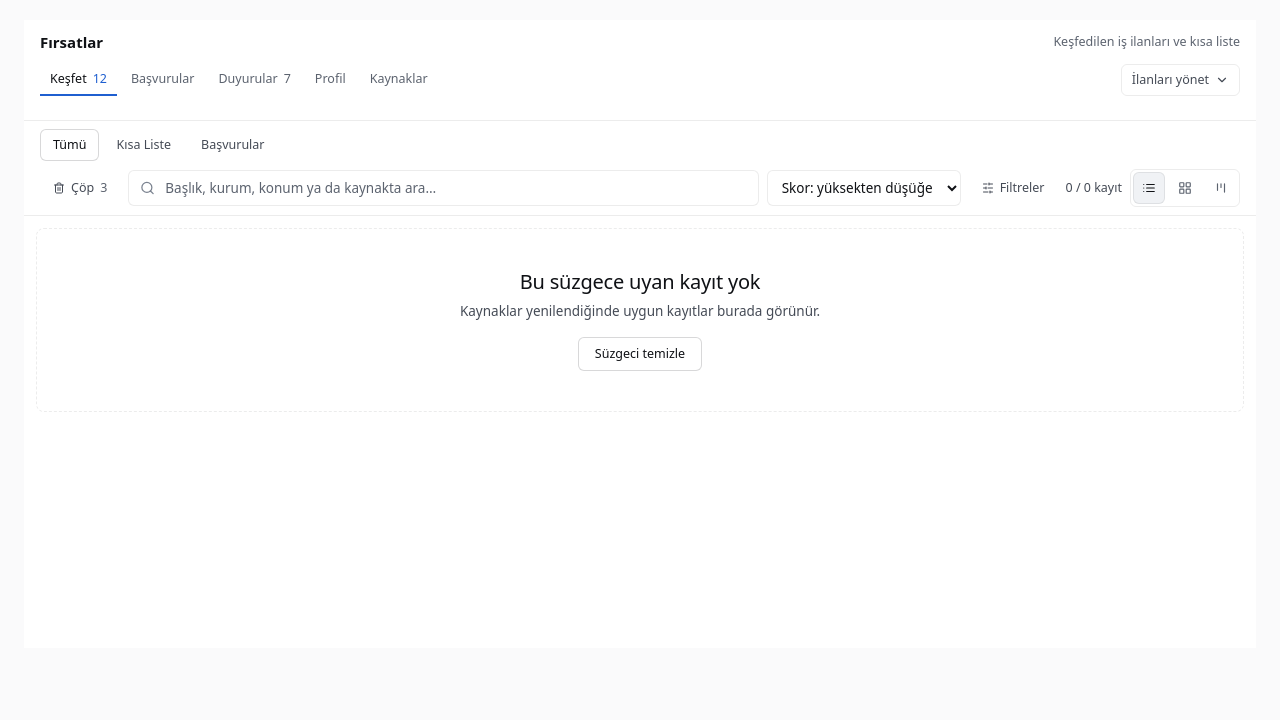
Test: opportunity search input › hızlı uygunluk 'yok' filtresi gerçekten API'ye gider
The width and height of the screenshot is (1280, 720).
What coordinates should you click on to do the following:
click the button "Filtreler"
I would click on:
 (1013, 188)
Its box is [969, 172, 1058, 204].
(page scrolled)
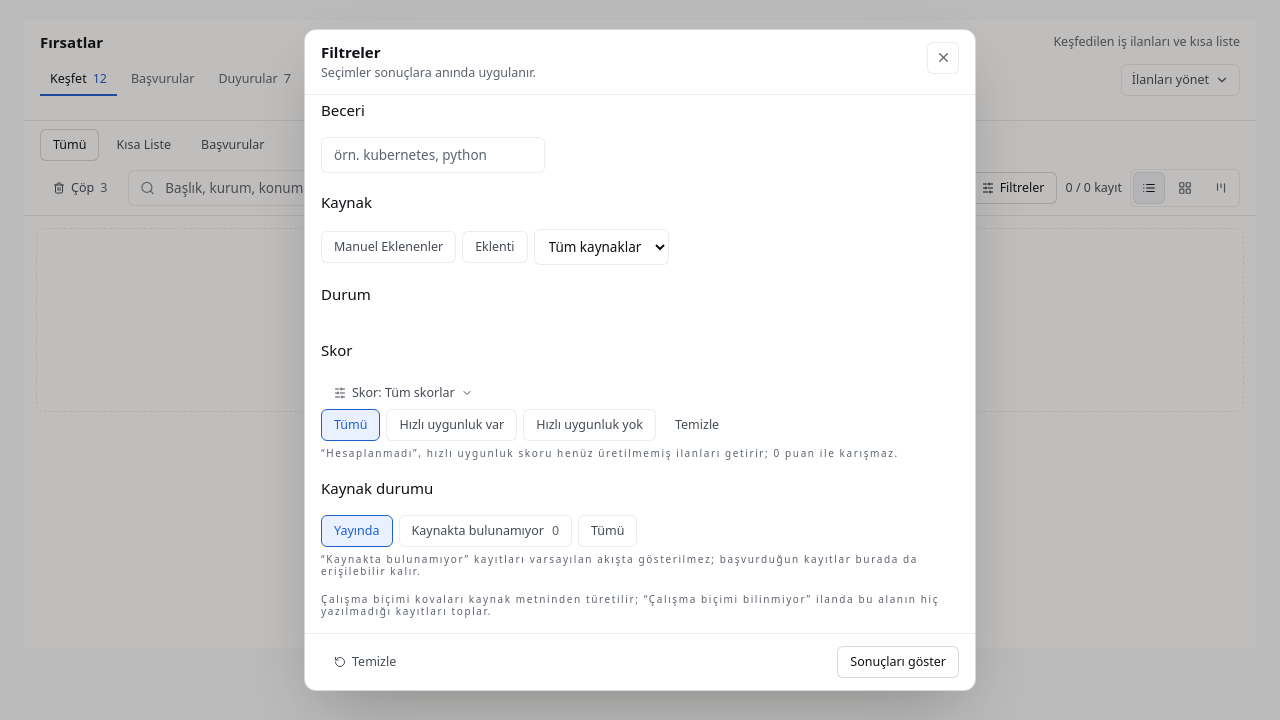
What coordinates should you click on to do the following:
click the button "Hızlı uygunluk yok"
I would click on:
 (590, 425)
Its box is [523, 409, 656, 441].
Wait 400 ms
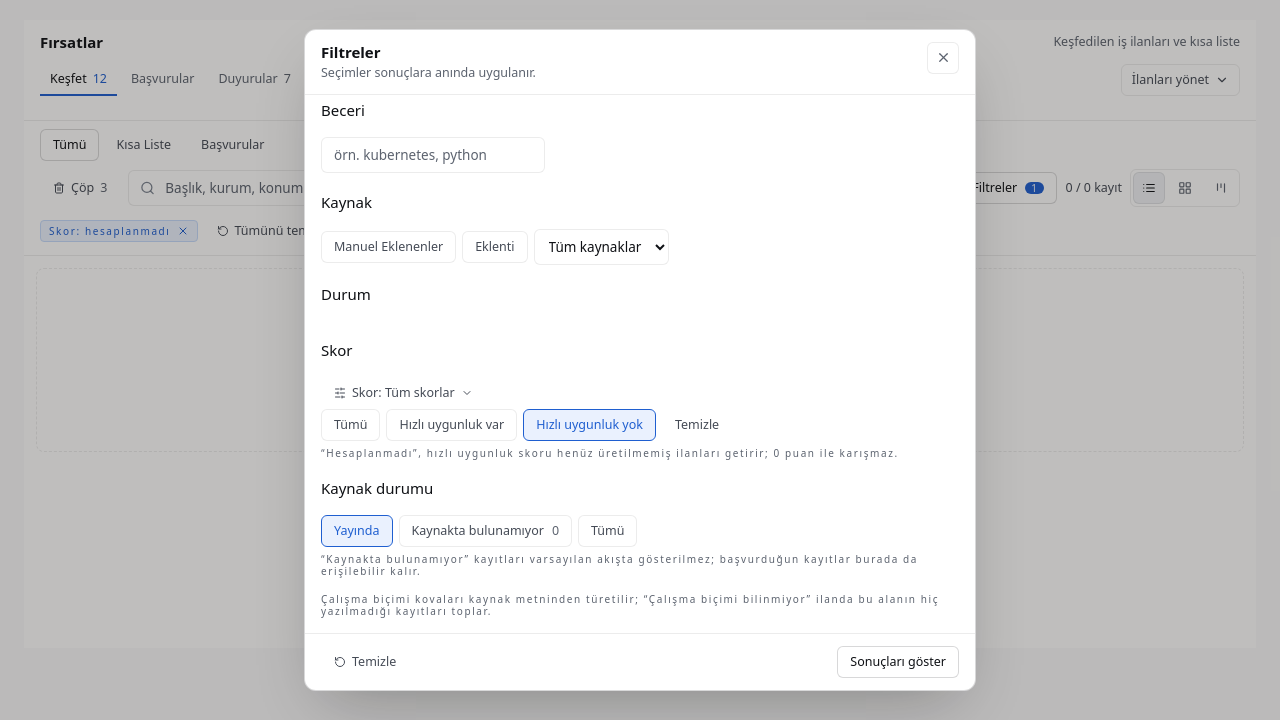
Check: the button named "Skor: hesaplanmadı" is shown, box [176, 225, 188, 237]
